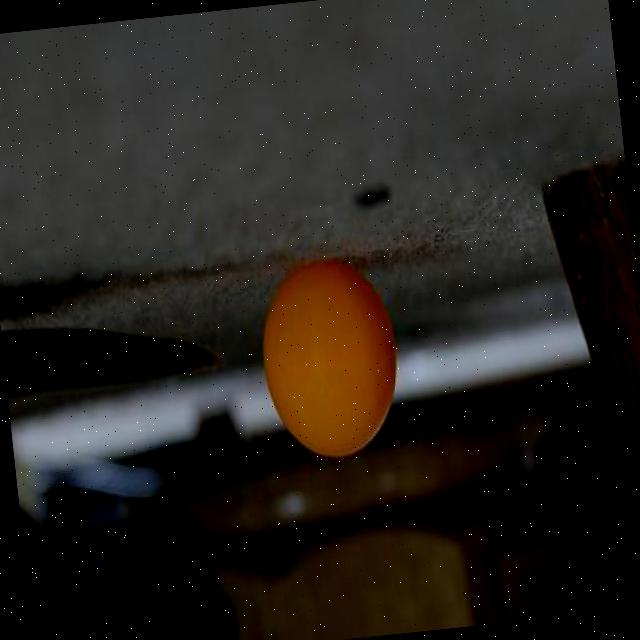ping-pong-ball: (250, 248, 406, 463)
